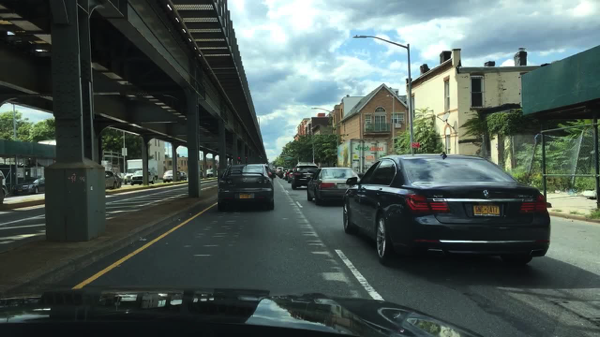car: (340, 152, 551, 268), (218, 162, 275, 212), (305, 167, 358, 207), (291, 163, 316, 191), (12, 177, 46, 196), (102, 169, 123, 191), (131, 169, 155, 187), (162, 169, 182, 183), (1, 171, 7, 205), (285, 169, 294, 185), (206, 169, 216, 178), (125, 173, 132, 184), (273, 169, 284, 176), (280, 169, 286, 179), (199, 169, 203, 180)
traffic sign: (412, 141, 419, 148)
